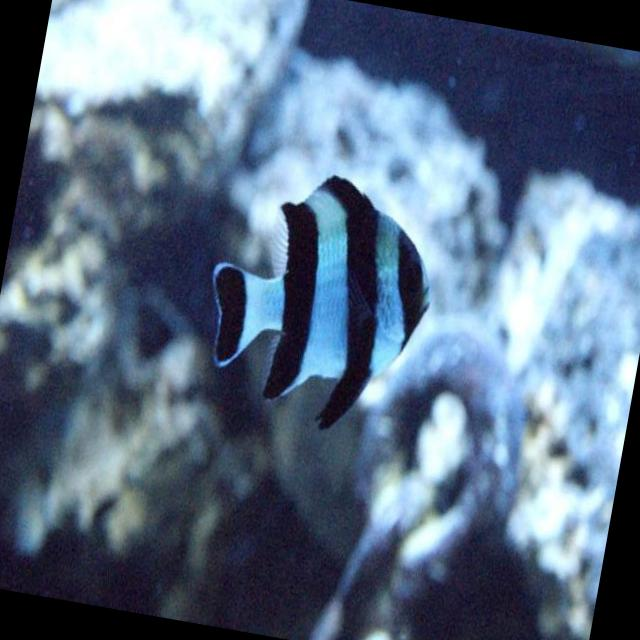Three_striped DasmselFish: (181, 151, 446, 446)
